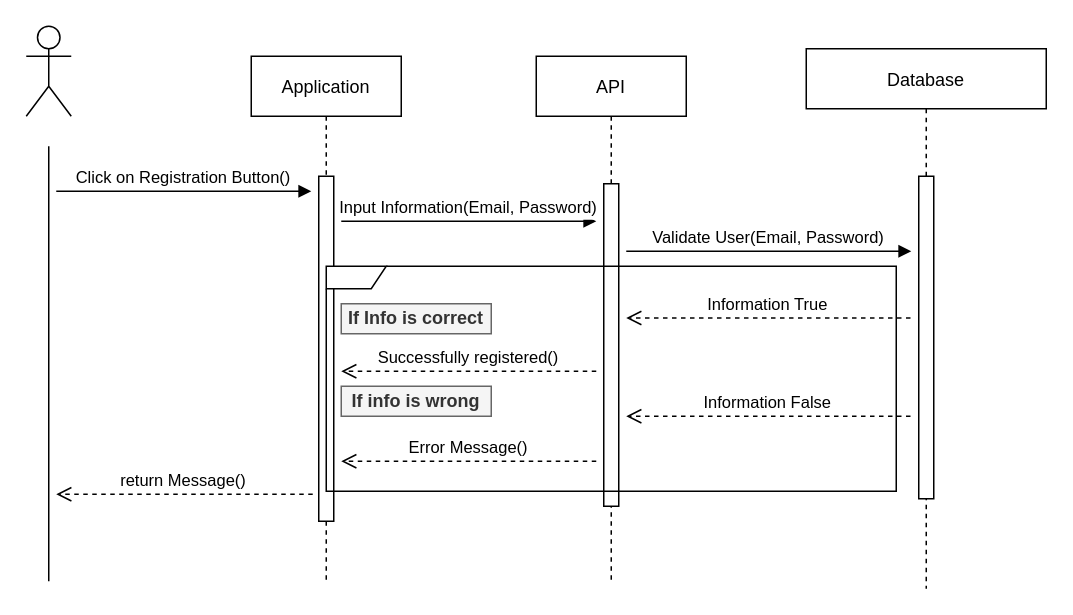
Some shapes in this 1073 by 615 pixel diagram are drawn without their labels. The shapes that lost their labels are listed below. From the top down, each one's box as (x1, y1, x2, y2) in pixels, then its label:
(25, 25, 71, 116): User
(325, 265, 896, 491): alt
